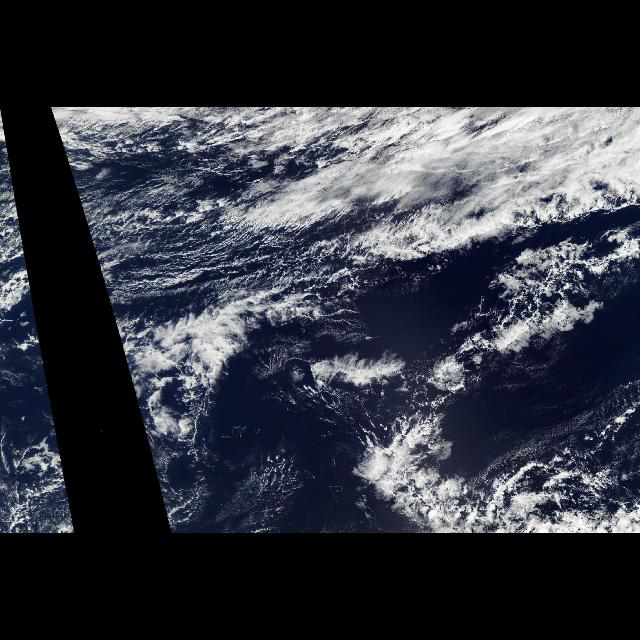Fish: (88, 209, 640, 533)
Gravel: (96, 180, 302, 298)
